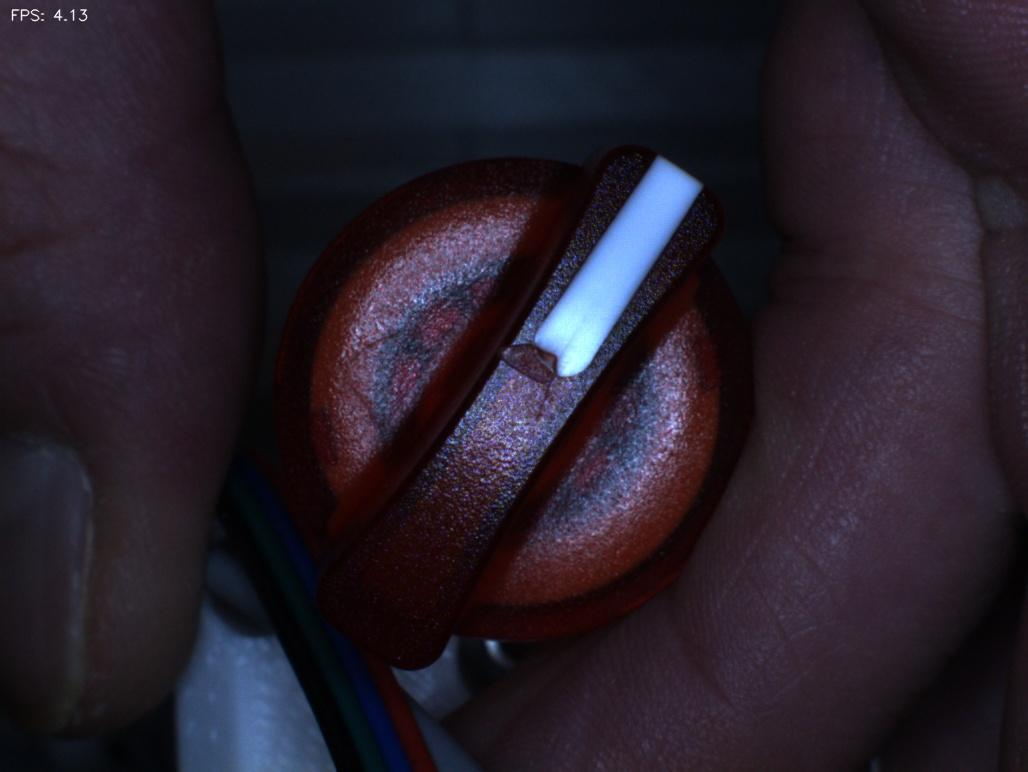Choc: (475, 304, 574, 397)
